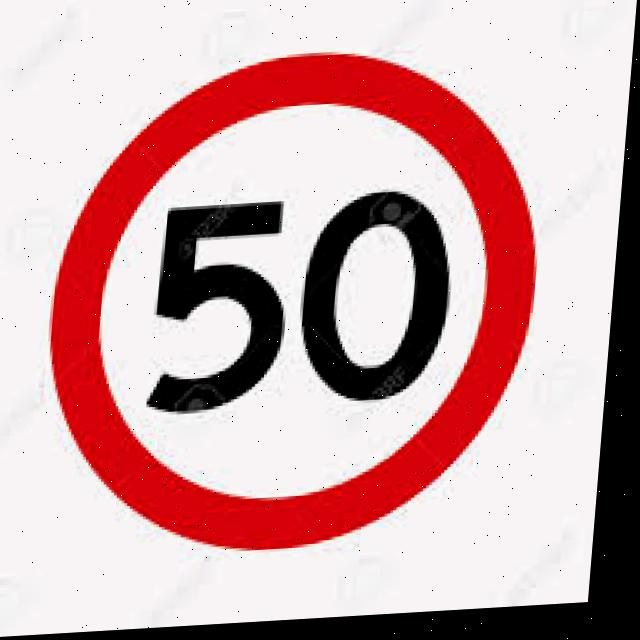Speed limit 50: (35, 41, 563, 568)
